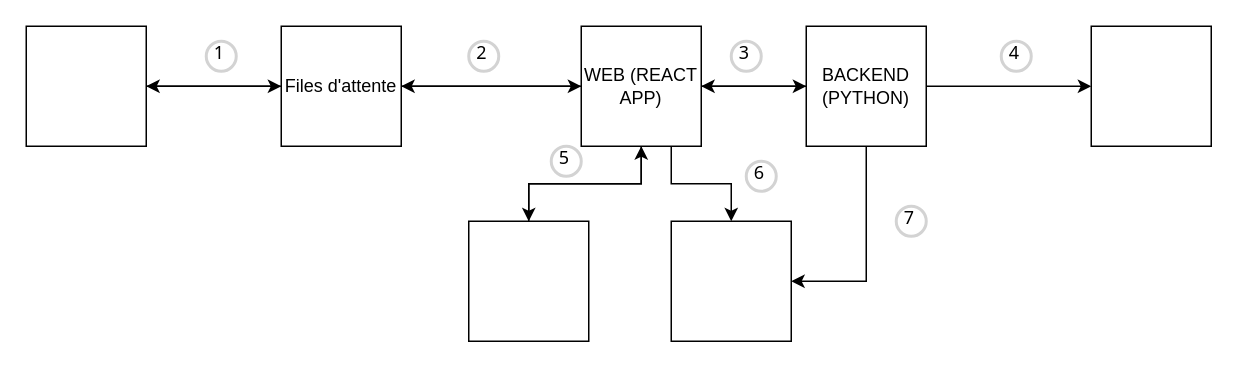
Some shapes in this 1238 by 368 pixel diagram are drawn without their labels. The centre of each missing label's shape, as x and y in pixels:
AZURE MONITOR (GRAPHANA): the point at 528,280
AZURE POWER BI: the point at 730,280
DATABASE (MONGO AZURE): the point at 1150,85
USER: the point at 85,85
